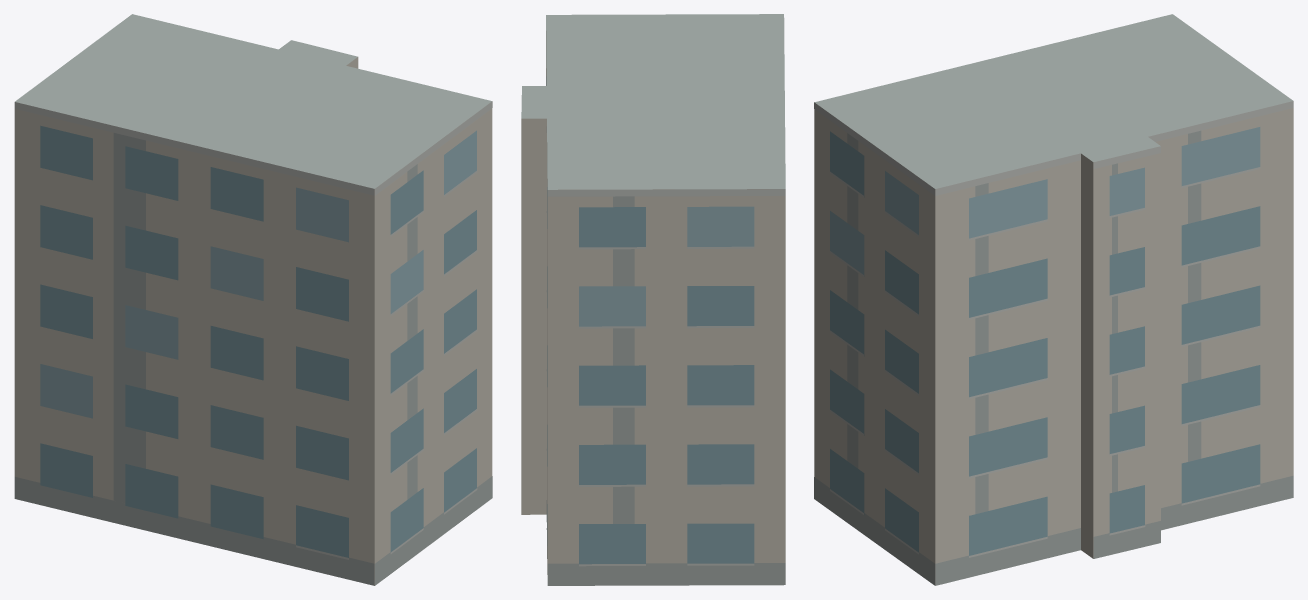
File: survey-upis-32528230.glb
The picture shows the model from 3 angles, left to right: view 1: azimuth 30°, elevation 25°; view 2: azimuth 150°, elevation 25°; view 3: azimuth 270°, elevation 25°; orthographic projection.
Parts seen in each view (by area): view 1: survey-upis-32528230.tmp; view 2: survey-upis-32528230.tmp; view 3: survey-upis-32528230.tmp.
Boxes of the visible parts, x1,y1,x2,y2 form: survey-upis-32528230.tmp: (14, 14, 492, 585); survey-upis-32528230.tmp: (521, 14, 785, 585); survey-upis-32528230.tmp: (814, 14, 1293, 585).
Size of the model in its own units: 13.26 by 14 by 15.34.
